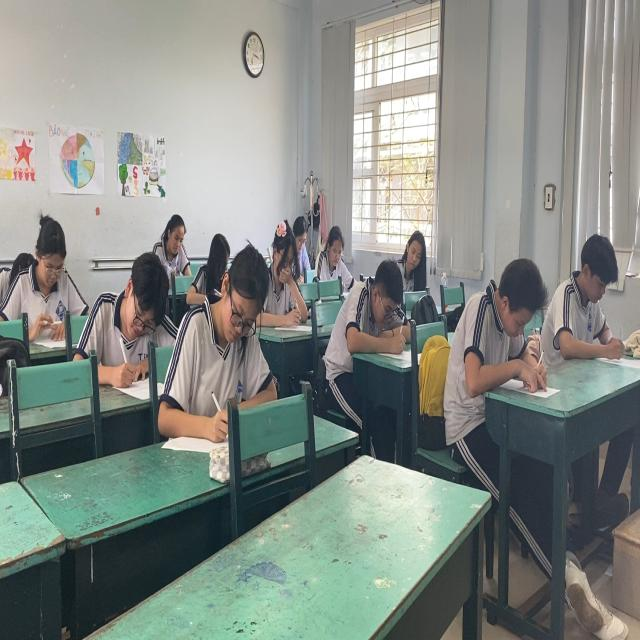not_cheating: (186, 245, 270, 418), (470, 242, 553, 376), (98, 252, 180, 379), (553, 227, 622, 356), (15, 210, 85, 335), (348, 249, 402, 335), (260, 224, 303, 324), (151, 210, 194, 290), (316, 224, 353, 276), (404, 231, 429, 283)
